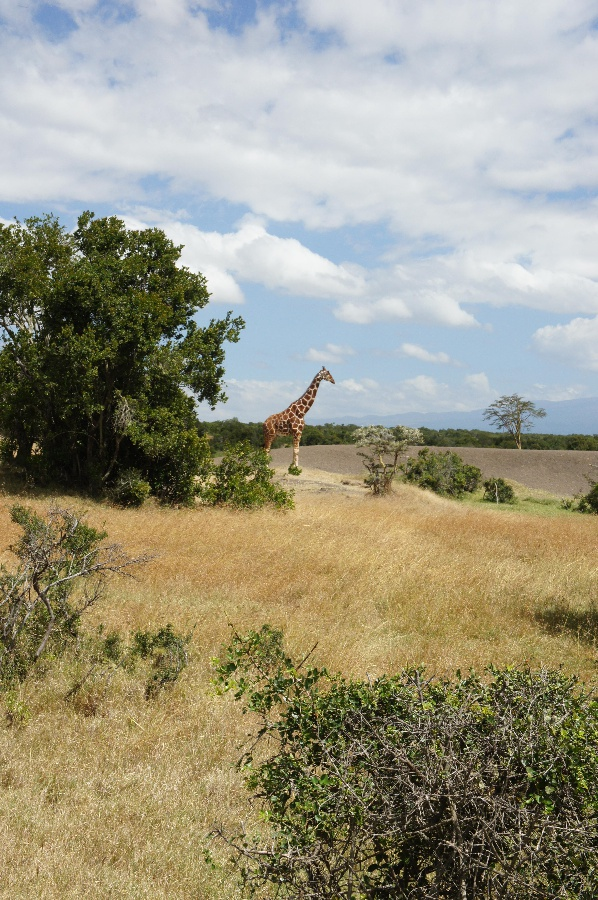giraffe: (251, 360, 343, 471)
